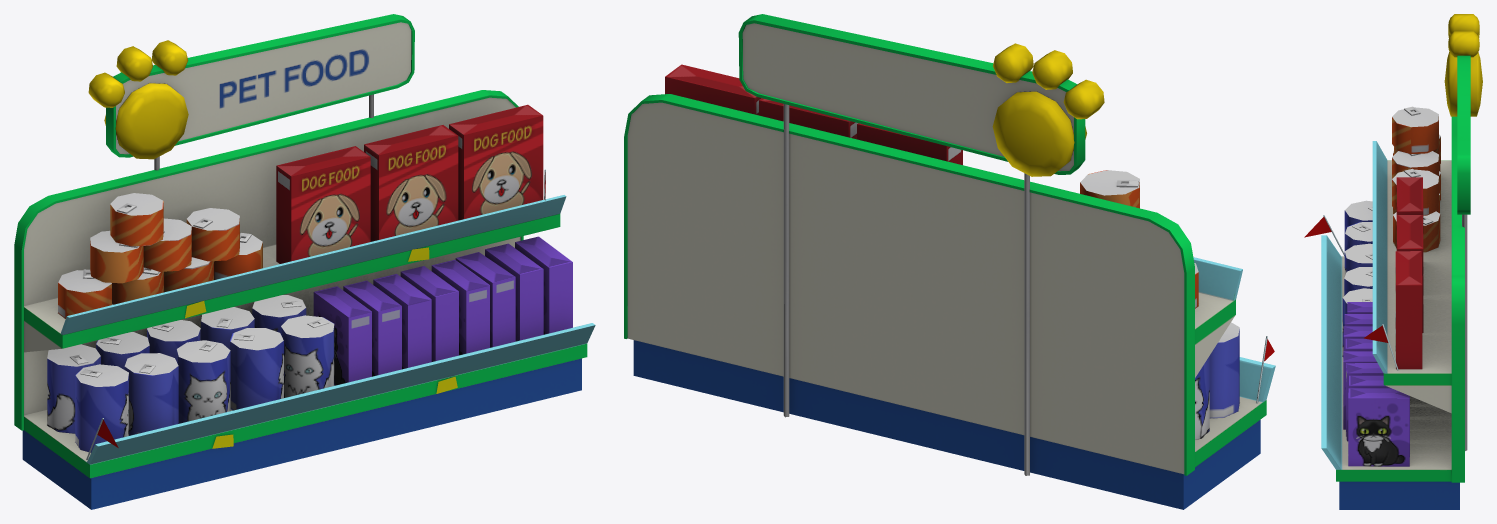
The model's file is interior_shelf_pet_food_001_gr_mesh.FBX.
3 renders of one model, left to right at view 1: azimuth 30°, elevation 25°; view 2: azimuth 150°, elevation 25°; view 3: azimuth 270°, elevation 25°, orthographic. The views are drawn at different scales.
Parts seen in each view (by area): view 1: interior_shelf_pet_food_001_gr; view 2: interior_shelf_pet_food_001_gr; view 3: interior_shelf_pet_food_001_gr.
Part boxes in pixels (x1,y1,x2,y2): interior_shelf_pet_food_001_gr: (14, 14, 595, 509); interior_shelf_pet_food_001_gr: (624, 14, 1275, 509); interior_shelf_pet_food_001_gr: (1304, 14, 1482, 509).
Size of the model in its own units: 29.58 by 21.36 by 10.4.
